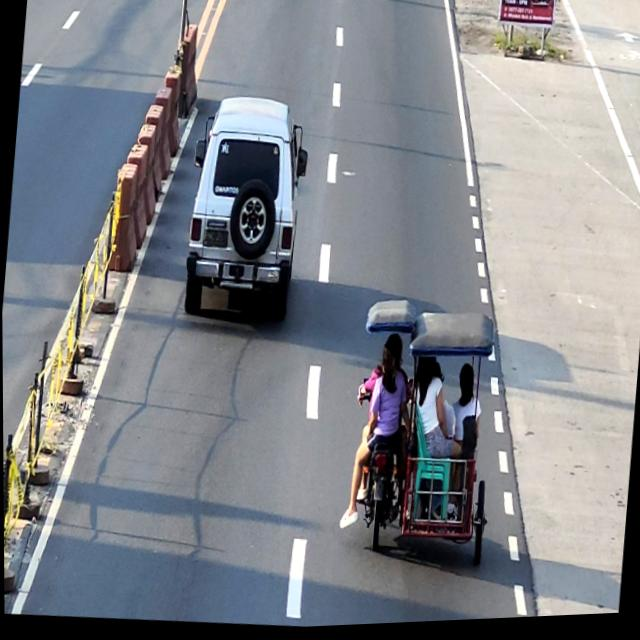Car: (180, 93, 313, 330)
License-Plate: (201, 230, 228, 251)
Tricycle: (343, 297, 506, 574)
